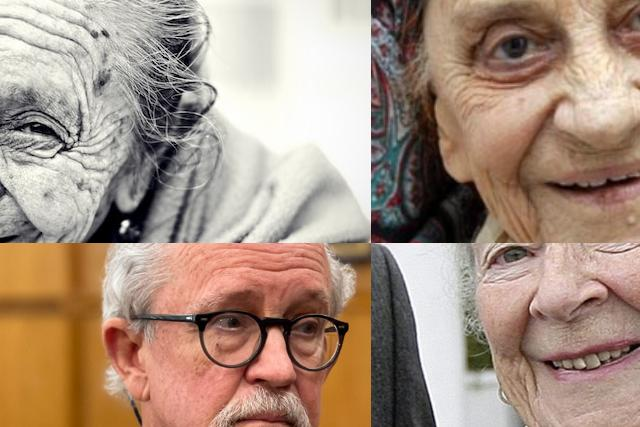bunny_line: (559, 61, 589, 91), (601, 55, 631, 81)
crows_feet: (446, 58, 480, 104), (58, 130, 98, 164)
forehead: (15, 8, 77, 54), (272, 243, 324, 279), (215, 243, 265, 272), (70, 63, 94, 119)
frown_line: (586, 0, 609, 12)
gummy_smile: (515, 106, 553, 166), (610, 283, 640, 322), (0, 179, 28, 218), (222, 367, 246, 407), (511, 311, 534, 345), (287, 373, 305, 399)
masseter: (483, 170, 513, 224), (75, 156, 105, 194)
sad_smile: (515, 182, 545, 232), (518, 354, 546, 398)
